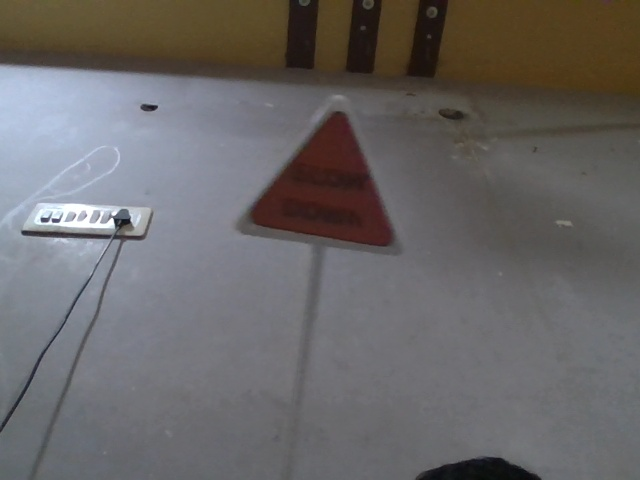slowdown: (243, 84, 396, 258)
